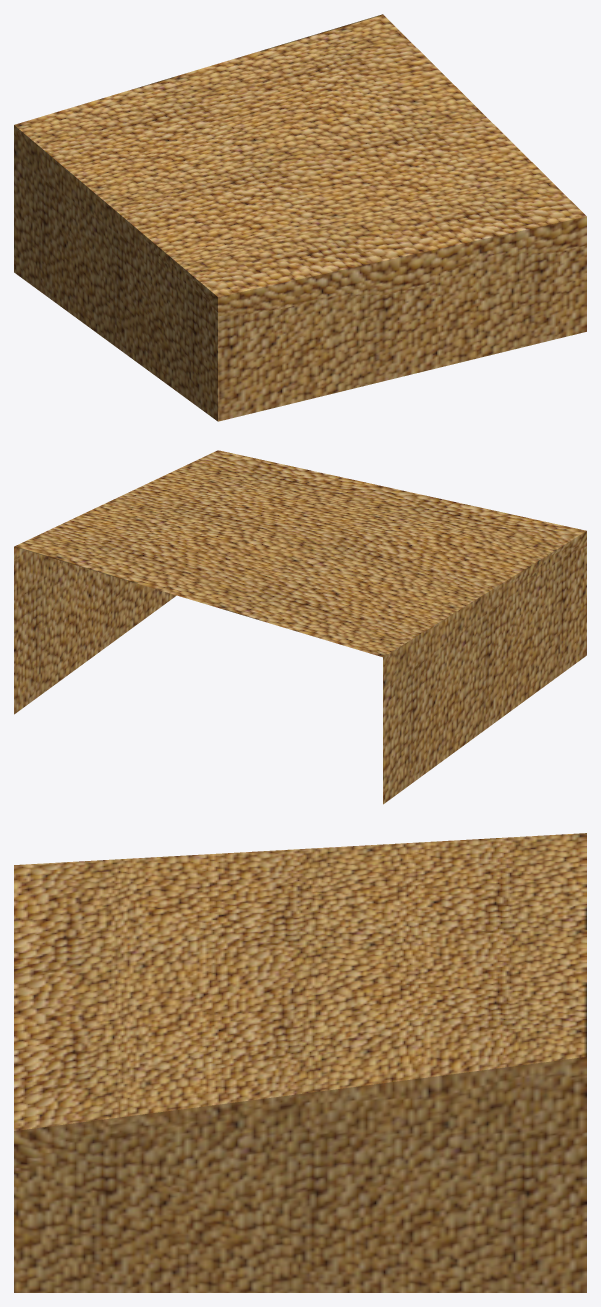
Rendered from SM_配餐区_黄豆_01.fbx.
The picture shows the model from 3 angles, top to bottom: view 1: azimuth 30°, elevation 25°; view 2: azimuth 150°, elevation 25°; view 3: azimuth 270°, elevation 25°; orthographic projection. The views are drawn at different scales.
Visible parts, largest first — view 1: SM_配餐区_黄豆_01; view 2: SM_配餐区_黄豆_01; view 3: SM_配餐区_黄豆_01.
Part boxes in pixels (left/top/right/bottom): SM_配餐区_黄豆_01: left=14, top=14, right=586, bottom=421; SM_配餐区_黄豆_01: left=14, top=450, right=586, bottom=804; SM_配餐区_黄豆_01: left=14, top=833, right=586, bottom=1292.
Bounding box in the file's own units: 287 × 125 × 275.
